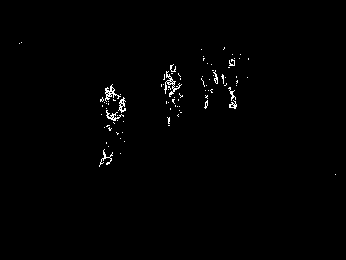person: (99, 84, 127, 168), (162, 65, 184, 125)
